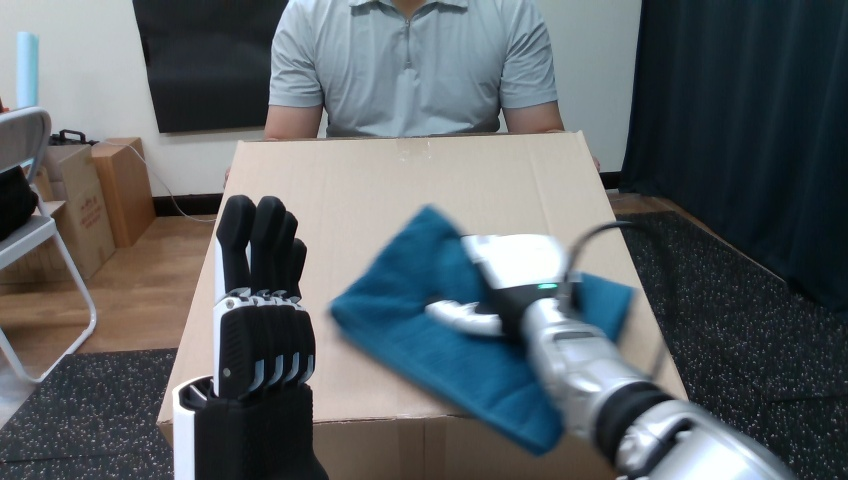left robot hand: (425, 221, 792, 478), (172, 195, 327, 479)
